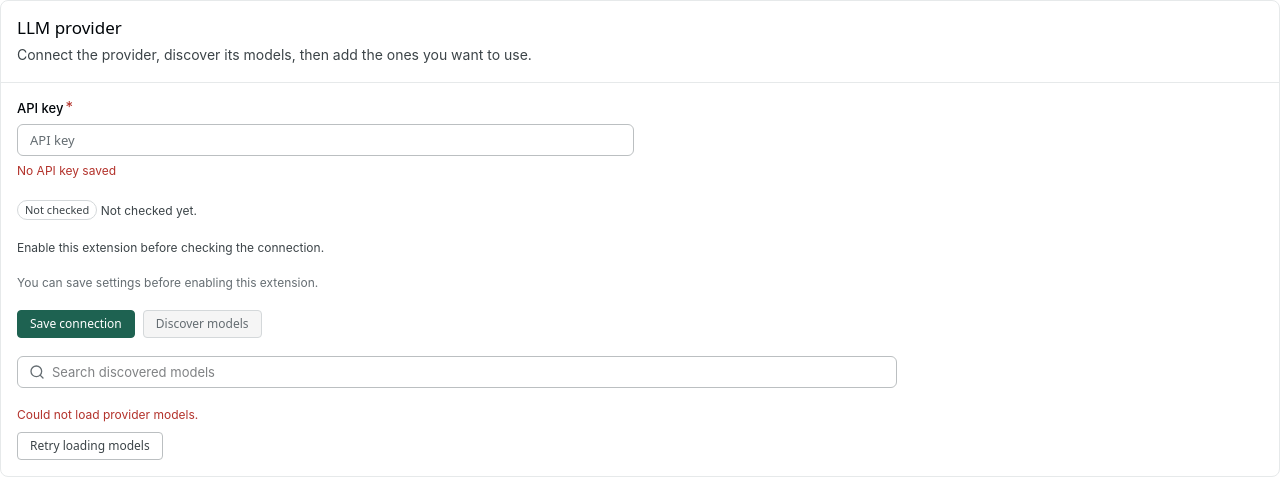
LlmProviderPanel › keeps host catalog retry available while the install is disabled
Expected: the text "Could not load provider models." is shown, [17,407,198,422]
Click the button "Retry loading models" at (90, 446), box [17,432,163,460]
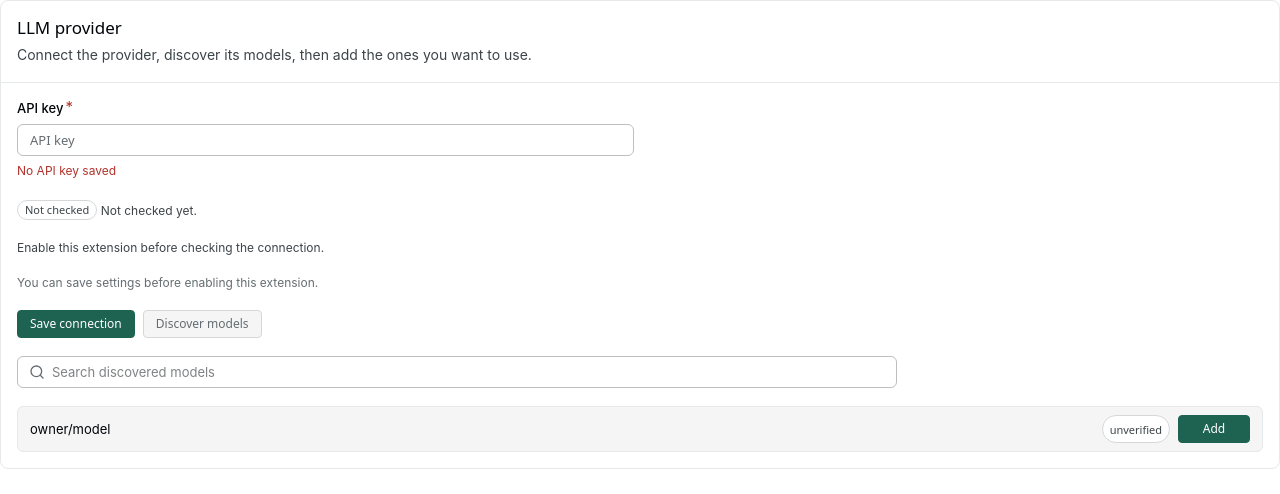
Expected: the text "owner/model" is shown, [30,421,110,437]
